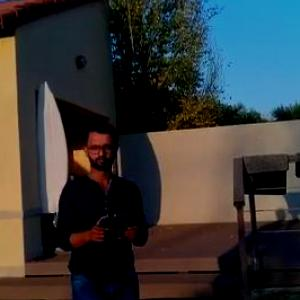follow: (53, 116, 155, 299)
